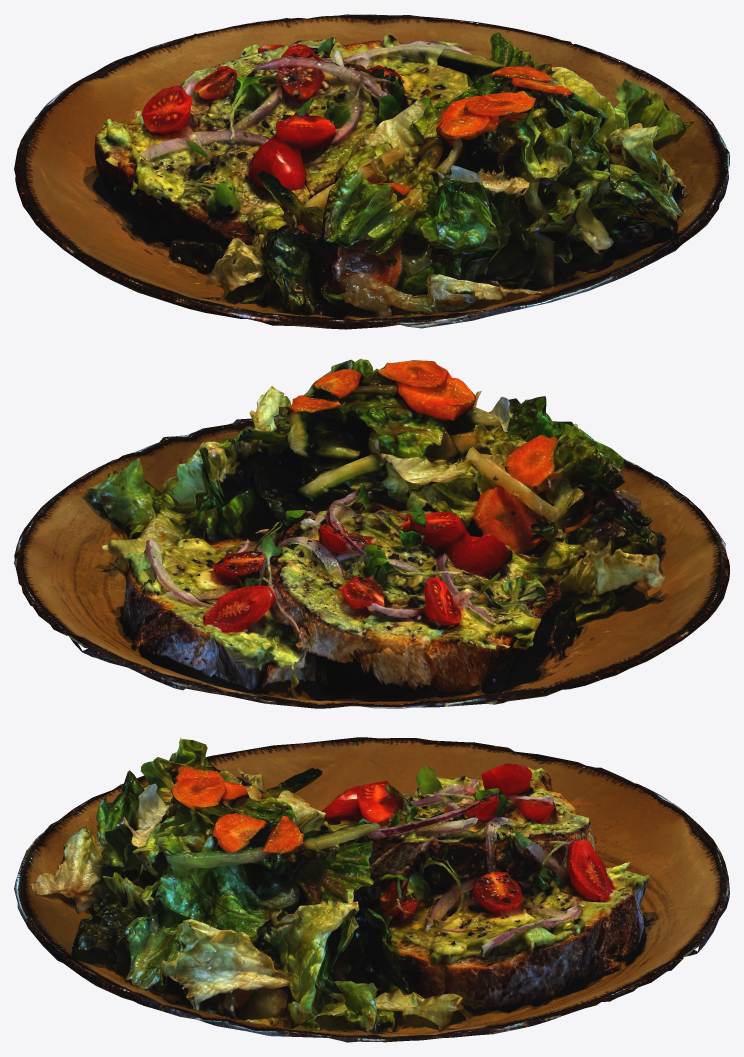
File: toast.glb
The picture shows the model from 3 angles, top to bottom: view 1: azimuth 30°, elevation 25°; view 2: azimuth 150°, elevation 25°; view 3: azimuth 270°, elevation 25°; orthographic projection.
Visible parts, largest first — view 1: group_0; view 2: group_0; view 3: group_0.
Boxes of the visible parts, x1=… form: group_0: x1=14, y1=14, x2=729, y2=329; group_0: x1=14, y1=358, x2=729, y2=708; group_0: x1=14, y1=737, x2=729, y2=1042.
Size of the model in its own units: 0.2083 by 0.0555 by 0.2076.
Materials: 1 (1 with a texture image).
